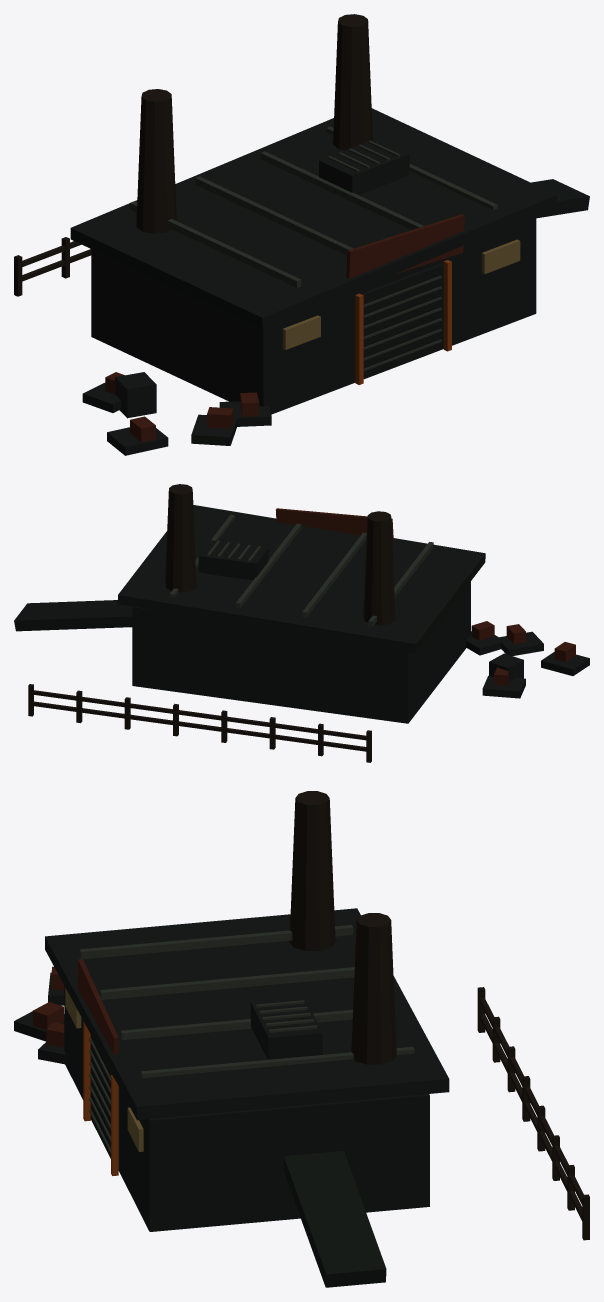
The model's file is landmark_recycling_factory.obj.
3 views of the same model, one above another, from view 1: azimuth 30°, elevation 25°; view 2: azimuth 150°, elevation 25°; view 3: azimuth 270°, elevation 25° (orthographic). The views are drawn at different scales.
Visible parts, largest first — view 1: metalStructure_0005, ironStructure_0005, MilitaryStructure5, woodDark_cylinder, _MeshInstance3D_75, redStructure_0004, crateInstances_0002, metalStructure_0012, iron_box6, iron_box8, iron_box9, iron_box7; view 2: metalStructure_0005, ironStructure_0005, MilitaryStructure5, metalStructure_0012, woodDark_cylinder, _MeshInstance3D_75, redStructure_0004, iron_box6, iron_box7, iron_box8, crateInstances_0002, iron_box9 (+1 smaller); view 3: metalStructure_0005, ironStructure_0005, MilitaryStructure5, metalStructure_0012, woodDark_cylinder, _MeshInstance3D_75, redStructure_0004, enemyRed_box8.
Part boxes in pixels (x1,y1,x2,y2): metalStructure_0005: (70,108,556,329); ironStructure_0005: (91,215,536,414); MilitaryStructure5: (129,126,520,384); woodDark_cylinder: (136,89,176,233); _MeshInstance3D_75: (333,14,372,150); redStructure_0004: (346,214,464,278); crateInstances_0002: (115,372,156,418); metalStructure_0012: (531,179,589,218); iron_box6: (107,427,168,455); iron_box8: (191,414,237,445); iron_box9: (219,401,271,426); iron_box7: (82,383,120,412); metalStructure_0005: (117,505,485,653); ironStructure_0005: (132,581,470,723); MilitaryStructure5: (169,514,433,626); metalStructure_0012: (14,600,132,631); woodDark_cylinder: (363,511,395,625); _MeshInstance3D_75: (165,484,196,592); redStructure_0004: (276,508,393,540); iron_box6: (541,652,589,675); iron_box7: (482,675,525,698); iron_box8: (497,631,543,655); crateInstances_0002: (489,653,523,681); iron_box9: (466,631,504,655); metalStructure_0005: (45,908,449,1120); ironStructure_0005: (64,986,429,1231); MilitaryStructure5: (65,925,414,1175); metalStructure_0012: (284,1151,386,1287); woodDark_cylinder: (289,791,335,950); _MeshInstance3D_75: (351,913,396,1064); redStructure_0004: (77,959,118,1077); enemyRed_box8: (32,1002,63,1030).
Size of the model in its own units: 18.5 by 7.23 by 14.07.
